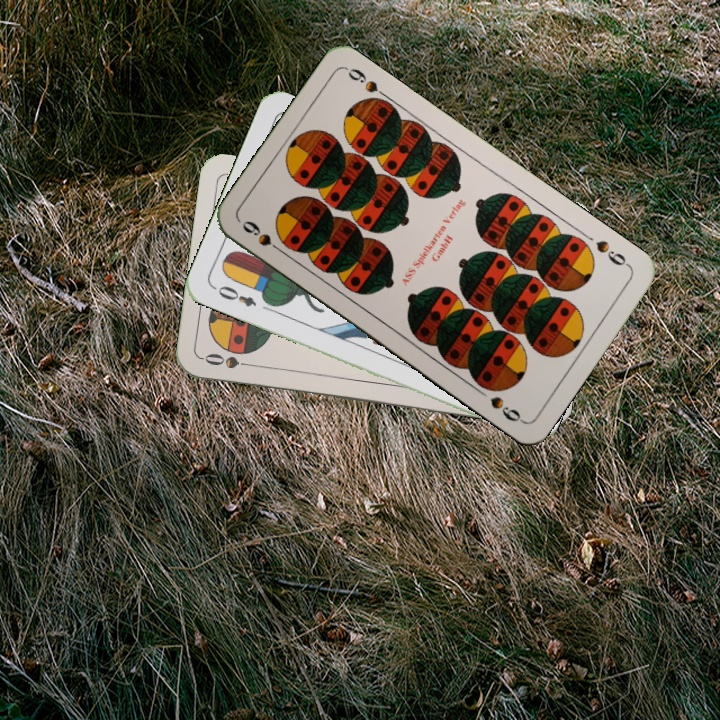EO: (213, 281, 259, 310)
S9: (238, 216, 289, 258), (591, 236, 633, 271)
SO: (200, 349, 259, 372)
